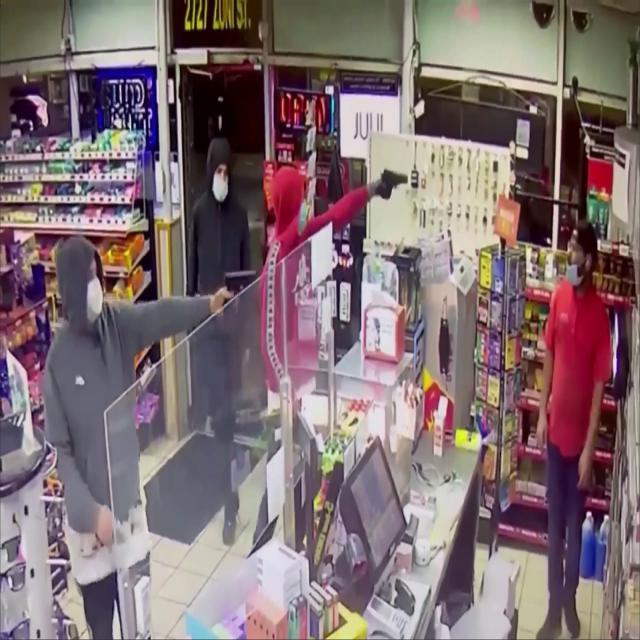Gun: (220, 269, 258, 317), (378, 169, 408, 200)
